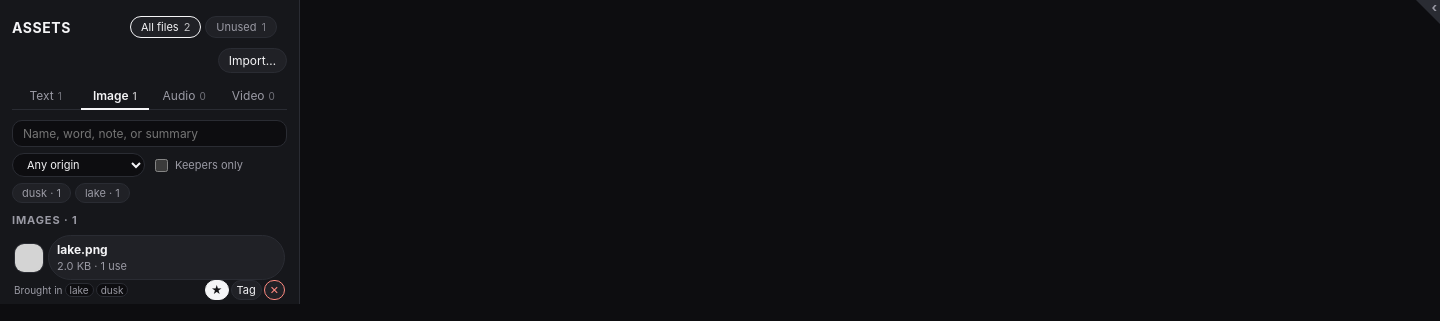
Test: the library column › narrows to what nothing holds when the unused view is asked for
Step 1. Click the button with test id "assets-view-unused" → (241, 27), box [205,16,277,38]
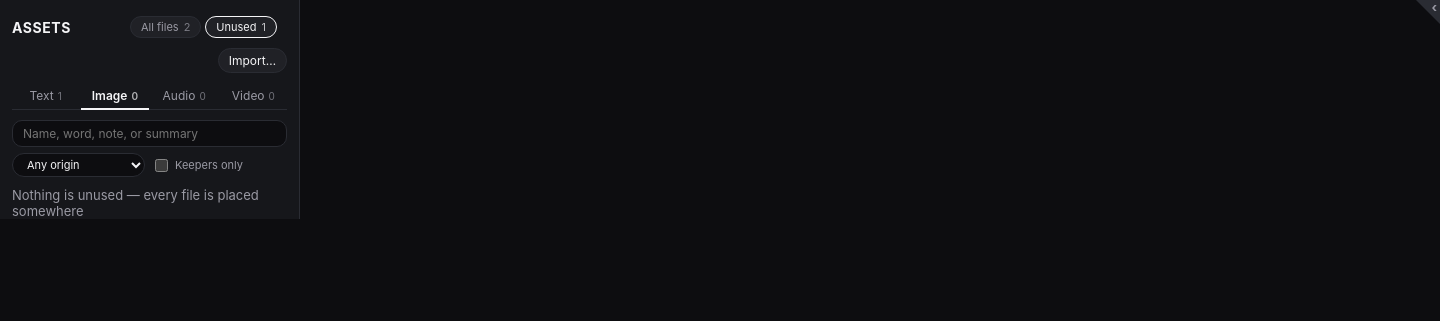
Step 2. Click the tab "Text 1" → (46, 96), box [12,83,79,110]
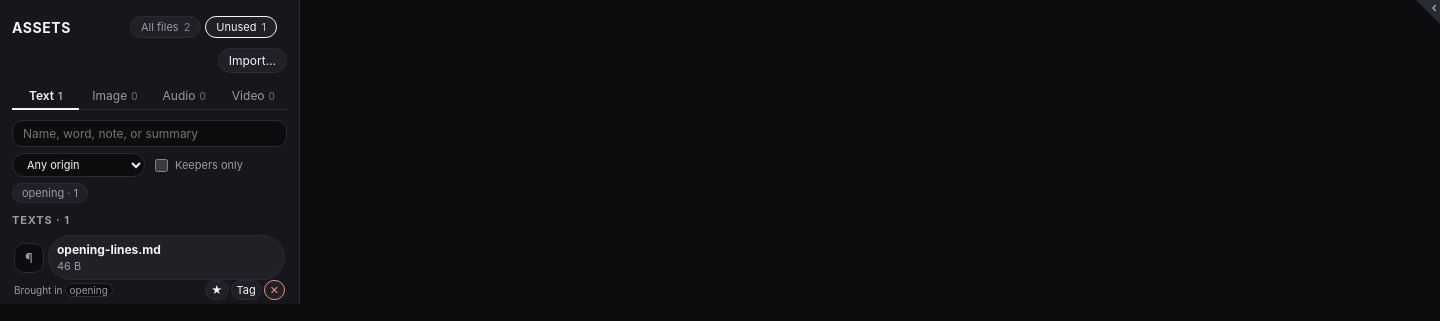
Step 3. Click the tab "Image 0" → (115, 96), box [81,83,149,110]
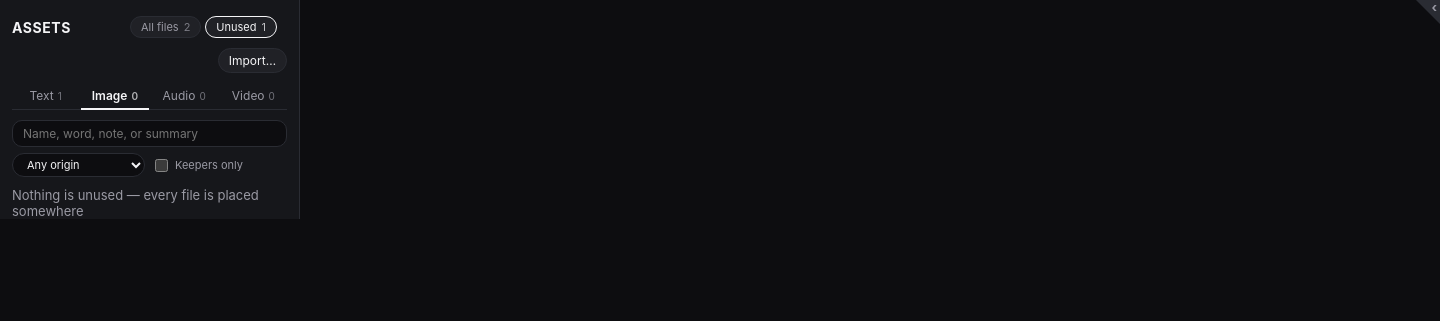
Expected: the text "Nothing is unused — every file is placed somewhere" is shown, [12,187,287,219]
